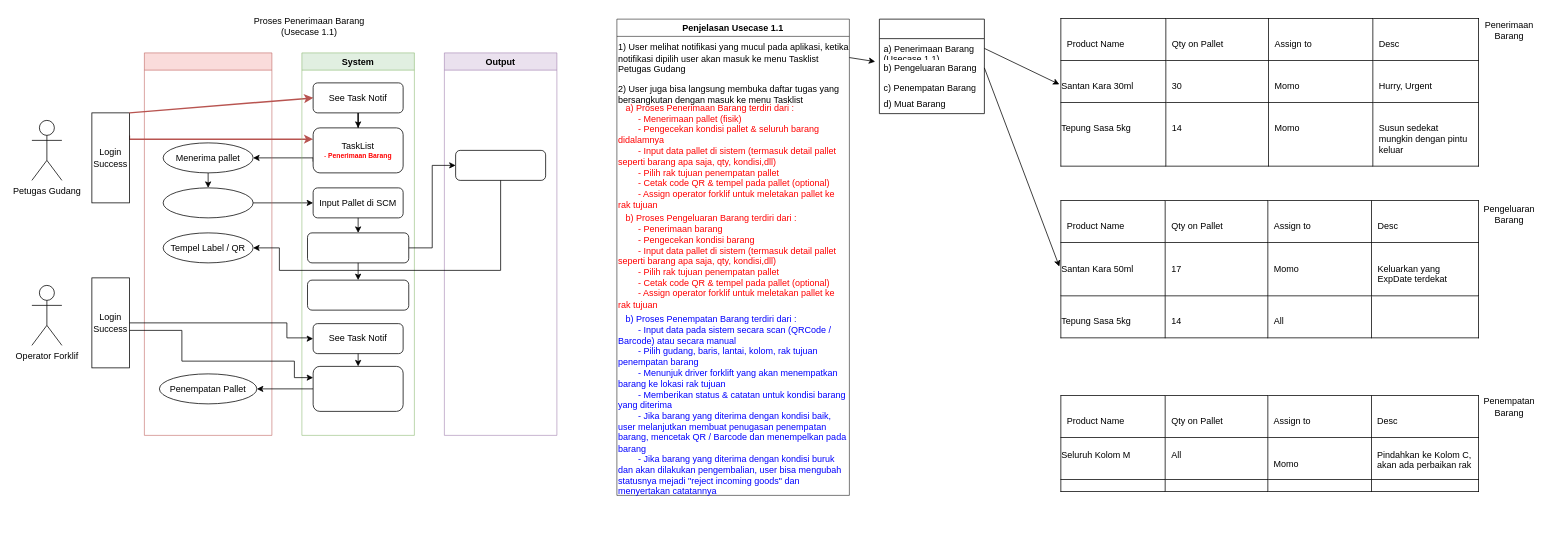
Image size: 1552x545. Some labels were removed from this diagram. The box of each missing label's shape, as (x1, y1, x2, y2) in pixels:
Assign "Penempatan Pallet" kepada OP: (307, 279, 409, 310)
Cek kondisi barang: (162, 187, 253, 218)
Manual: (144, 52, 272, 435)
Pilih Rak tujuan Pallet: (307, 232, 409, 263)
QRCode / Barcode: (455, 150, 546, 180)
TaskList - Penempatan Barang: (312, 366, 403, 411)
Tasklist Petugas Gudang: (879, 18, 984, 114)
